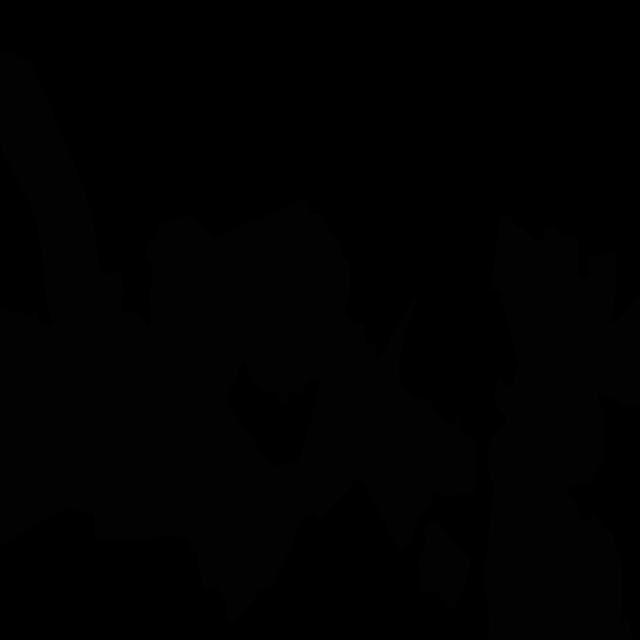cardboard: (0, 52, 260, 546), (187, 197, 416, 623), (482, 214, 640, 640), (86, 392, 297, 562), (383, 388, 476, 554), (418, 520, 471, 610)
